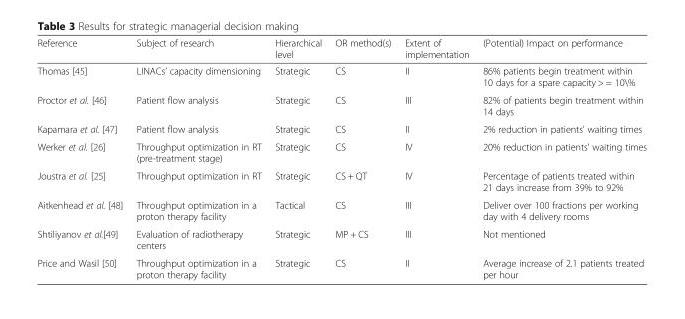table: (36, 36, 646, 279)
table column: (475, 36, 646, 279), (129, 36, 267, 279), (36, 36, 129, 279), (397, 36, 475, 279), (327, 36, 397, 279), (267, 36, 327, 279)
table column header: (36, 36, 646, 62)
table row: (36, 90, 646, 119), (36, 137, 646, 166), (36, 166, 646, 195), (36, 195, 646, 224), (36, 224, 646, 253), (36, 62, 646, 90), (36, 36, 646, 62), (36, 253, 646, 279), (36, 119, 646, 137)
